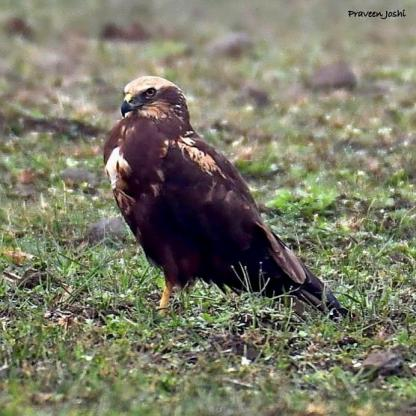Burung: (102, 75, 348, 322)
